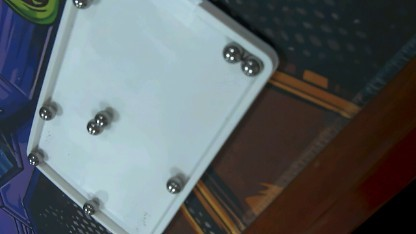ironball: (215, 39, 245, 63), (161, 173, 185, 194), (21, 150, 49, 168), (91, 105, 111, 130), (240, 54, 258, 81), (80, 116, 101, 138), (77, 197, 99, 216), (34, 104, 56, 122), (67, 0, 92, 11)
